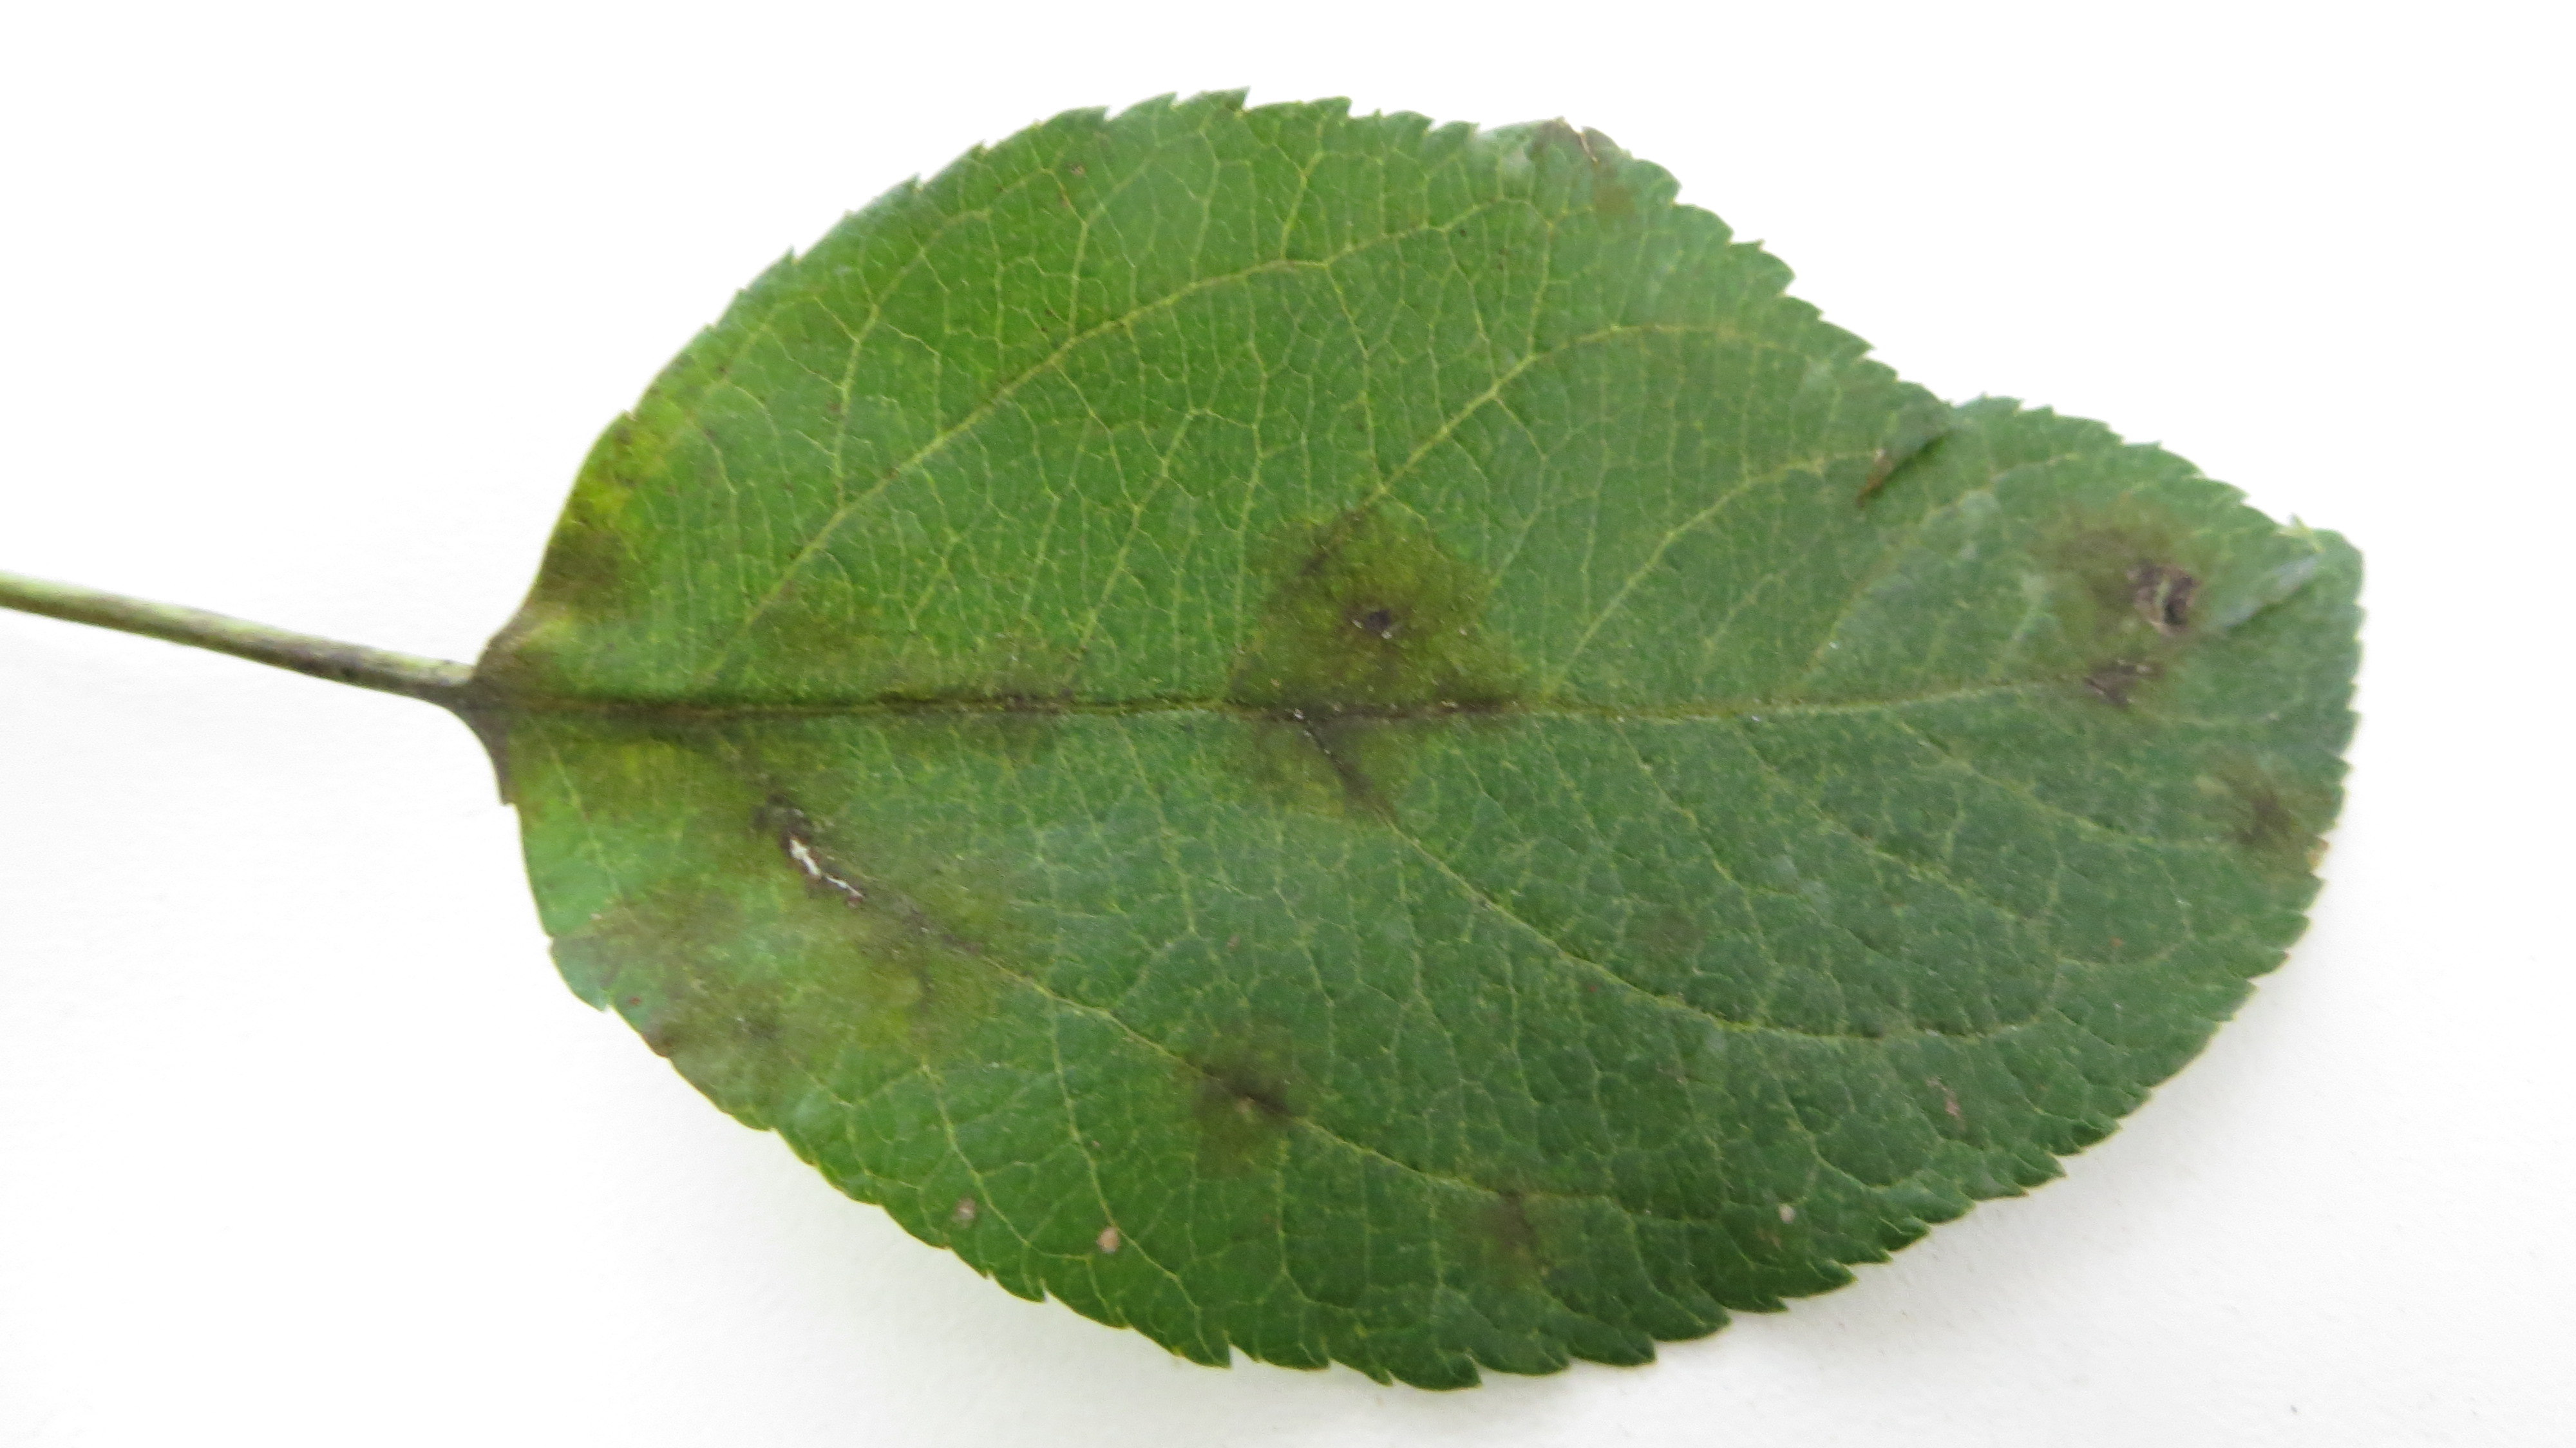sarna: (556, 853, 752, 1002), (660, 975, 846, 1129), (902, 825, 1058, 977), (2045, 499, 2212, 641), (1166, 1013, 1313, 1172), (460, 616, 580, 789), (594, 660, 757, 782), (978, 614, 1093, 786), (862, 634, 985, 775), (2199, 743, 2325, 882), (860, 908, 980, 1050), (525, 492, 648, 628), (1442, 1151, 1562, 1278), (766, 805, 885, 933), (2043, 628, 2185, 735), (1527, 106, 1637, 235), (1852, 412, 1959, 522), (763, 588, 890, 678), (922, 1165, 993, 1253), (1077, 1205, 1138, 1285)
